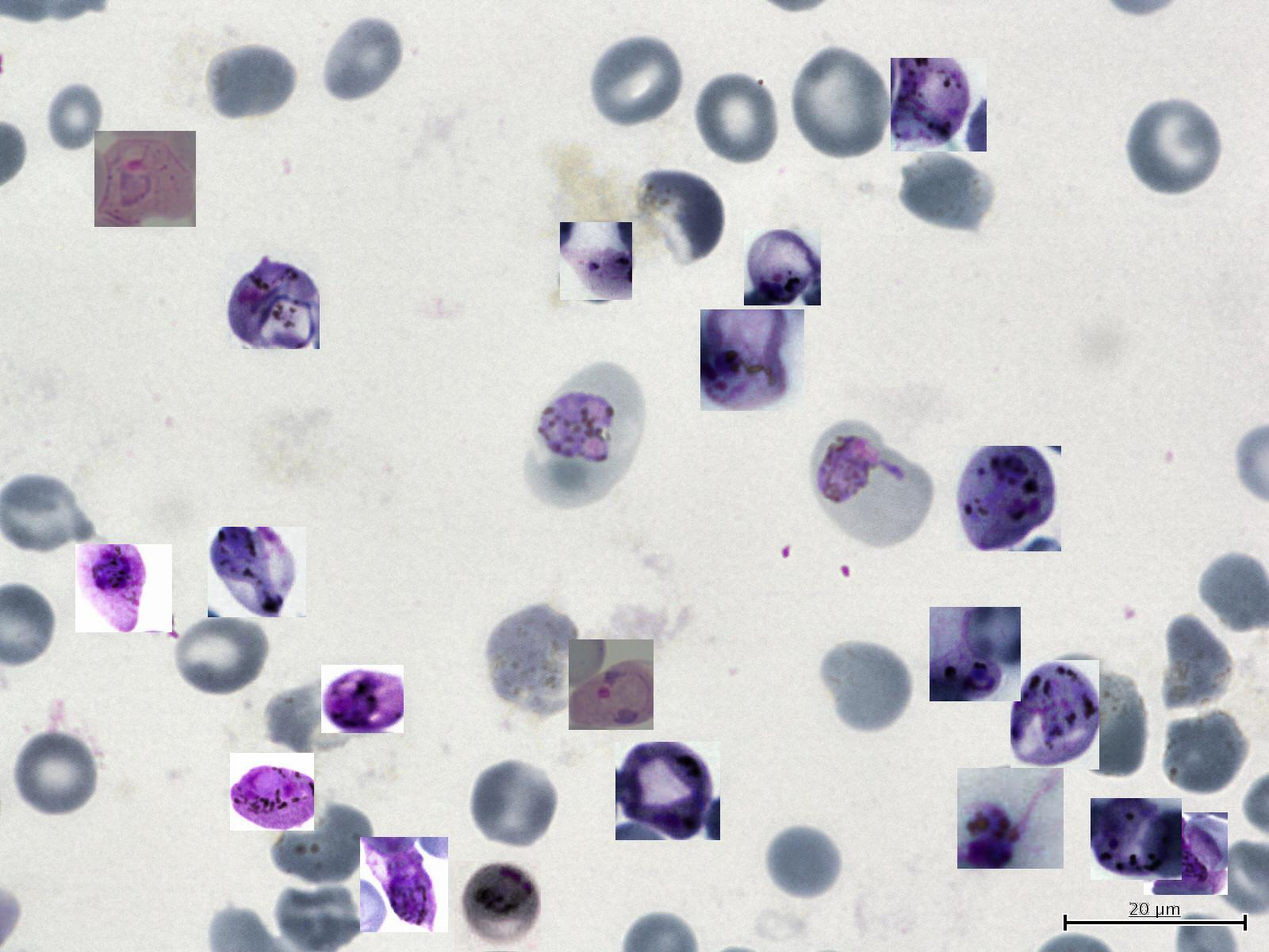Infected: (524, 361, 649, 508), (809, 417, 934, 546), (956, 446, 1061, 551), (957, 768, 1064, 869), (700, 310, 804, 411), (615, 742, 720, 840), (94, 131, 196, 227), (1010, 660, 1099, 770), (225, 252, 320, 349), (891, 58, 987, 152), (208, 527, 306, 617), (930, 607, 1021, 701), (75, 544, 172, 632), (361, 837, 448, 932), (454, 861, 541, 951), (569, 639, 654, 730), (1091, 798, 1182, 880), (1144, 812, 1228, 895), (230, 753, 314, 831), (744, 229, 821, 305), (321, 665, 404, 733), (560, 222, 632, 300)
Uninfected: (791, 52, 893, 159), (1124, 94, 1225, 197), (481, 604, 577, 710), (273, 795, 374, 887), (588, 33, 684, 129), (631, 169, 725, 266), (820, 638, 914, 734), (467, 757, 559, 850), (692, 70, 780, 167), (171, 611, 270, 697), (897, 151, 995, 235), (11, 729, 100, 819), (320, 15, 405, 105), (1155, 615, 1233, 713), (202, 42, 297, 121), (271, 877, 366, 951), (1159, 709, 1244, 789), (1079, 674, 1146, 775), (763, 823, 843, 901), (43, 79, 109, 157)
